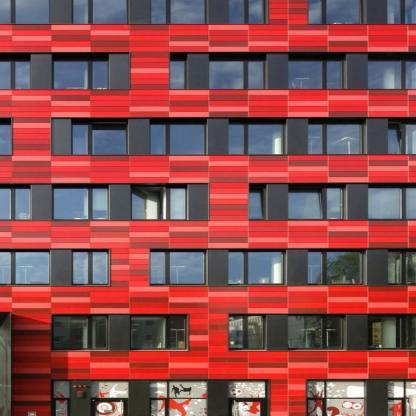Building Outline: (0, 0, 416, 416)
Door: (228, 397, 270, 416), (90, 398, 128, 416)
Facade: (0, 0, 416, 416)
Floor: (0, 297, 416, 358), (0, 231, 416, 292), (0, 166, 416, 227), (0, 100, 416, 161), (0, 35, 416, 95), (0, 362, 416, 416), (0, 0, 416, 30)
Floor Slab: (0, 31, 416, 36), (0, 95, 416, 100), (0, 161, 416, 166), (0, 227, 416, 232), (0, 292, 416, 297), (0, 358, 416, 363)
Window: (227, 249, 288, 286), (286, 314, 346, 351), (289, 52, 348, 89), (130, 184, 189, 221), (289, 184, 348, 221), (307, 249, 366, 286), (129, 314, 188, 351), (148, 379, 207, 416), (307, 379, 366, 416), (209, 52, 267, 89), (149, 118, 207, 155), (228, 118, 286, 155), (150, 249, 208, 286), (53, 52, 110, 89), (71, 118, 128, 155), (52, 314, 109, 351), (307, 118, 363, 155), (53, 184, 109, 221), (0, 249, 51, 286), (368, 52, 416, 89), (368, 184, 416, 221), (368, 314, 416, 351), (72, 249, 110, 286), (229, 314, 267, 351), (72, 0, 128, 24), (152, 0, 207, 24), (309, 0, 362, 24), (0, 184, 32, 221), (0, 0, 49, 24), (0, 52, 31, 89), (387, 118, 416, 155), (387, 379, 416, 416), (388, 249, 416, 286), (229, 0, 269, 24), (228, 380, 270, 397), (387, 0, 416, 24), (90, 380, 128, 398), (170, 52, 188, 89), (249, 184, 267, 221), (53, 379, 70, 416), (0, 118, 11, 155)
